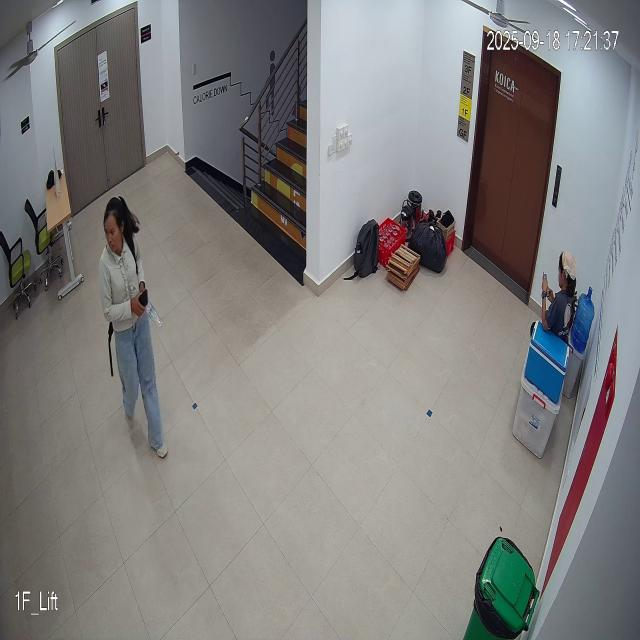face: (101, 201, 128, 253)
